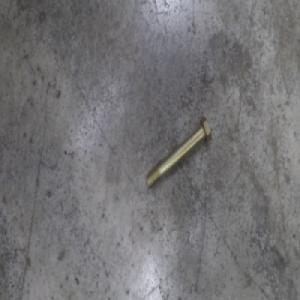Bolt: (145, 115, 212, 189)
